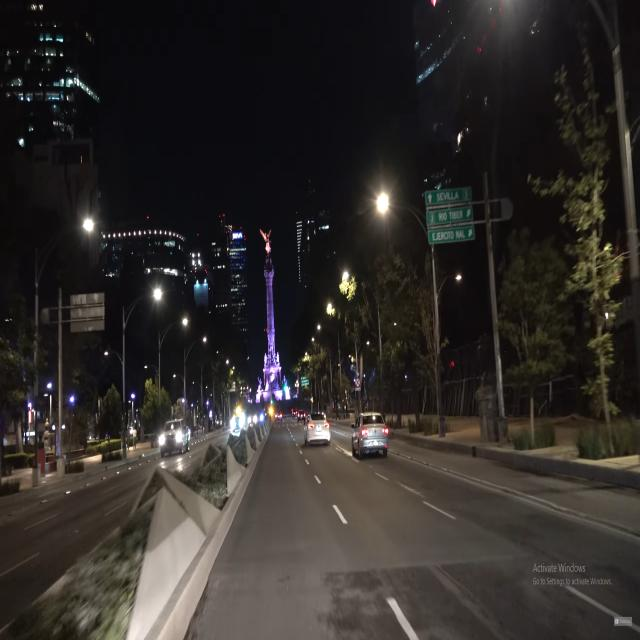headlights: (154, 428, 186, 446), (228, 412, 246, 432)
